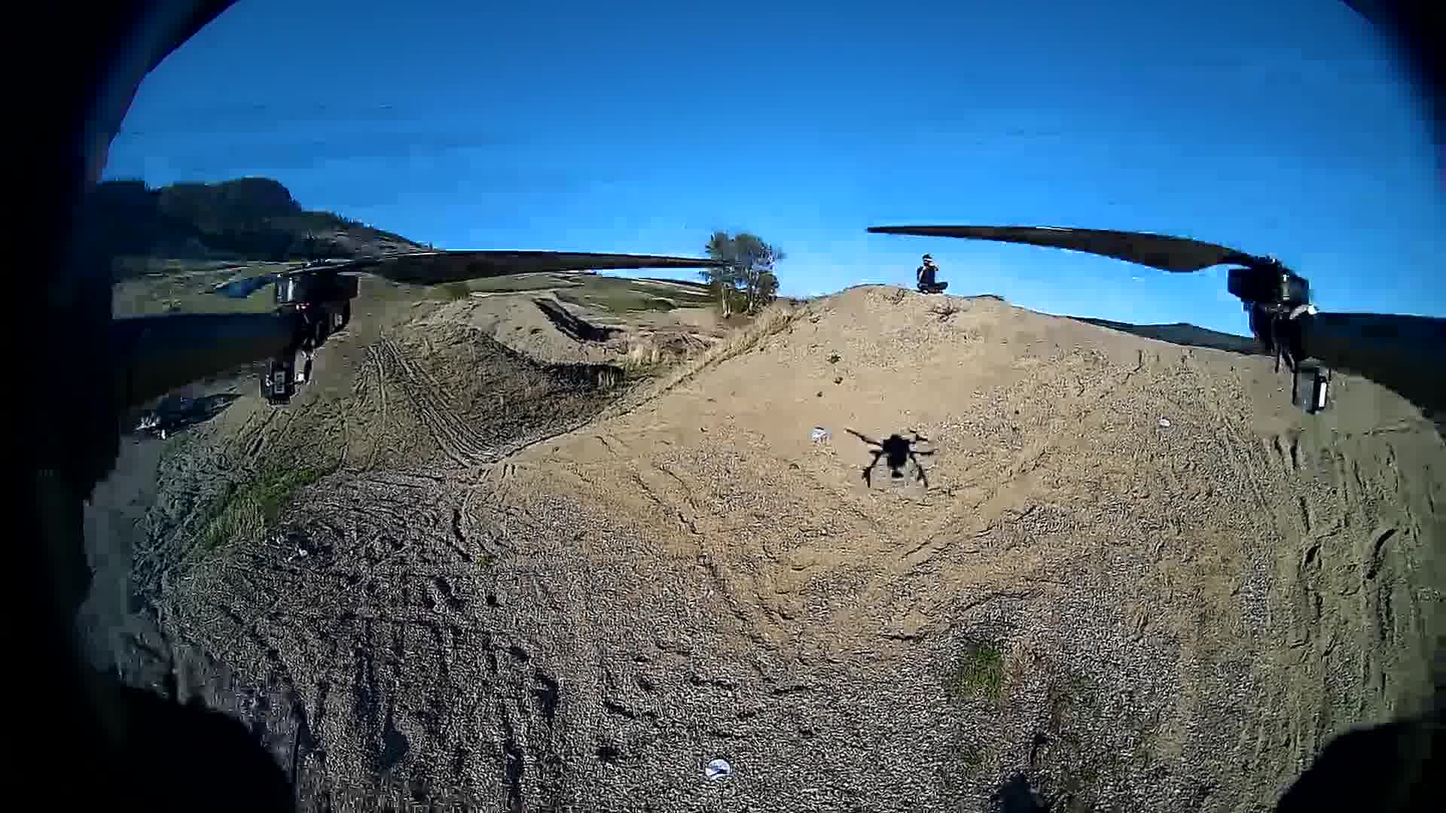Target: (704, 761, 729, 778)
